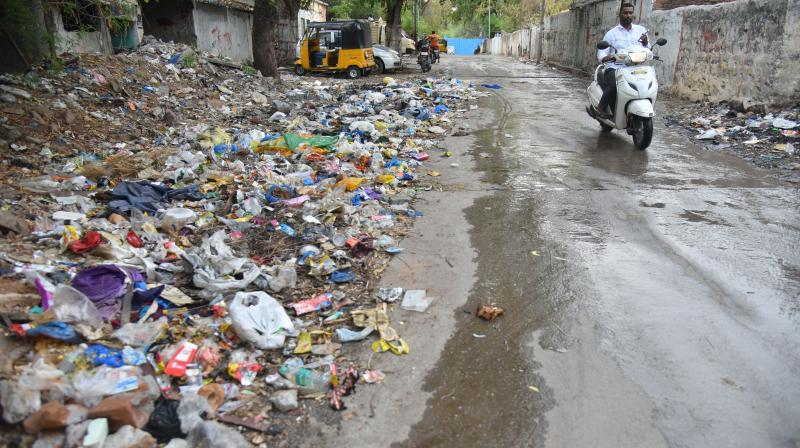road: (288, 56, 800, 445)
trash: (0, 34, 503, 447)
